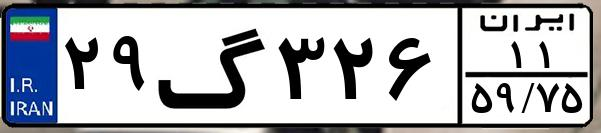1: (537, 27, 568, 80), (508, 27, 537, 80)
2: (330, 28, 385, 110), (57, 26, 110, 100)
3: (270, 28, 330, 110)
5: (560, 70, 590, 125), (470, 70, 495, 125)
6: (385, 28, 445, 110)
7: (535, 70, 560, 125)
9: (110, 28, 156, 98), (495, 70, 520, 125)
گ: (156, 12, 270, 120)
